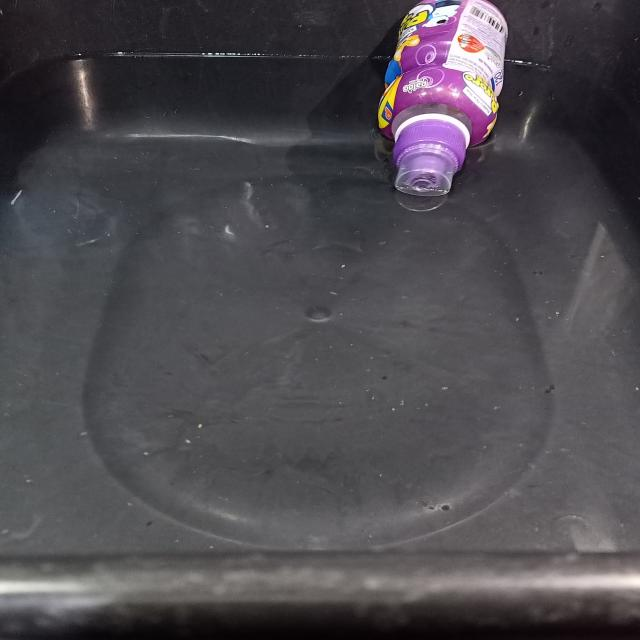Plastic Bottle: (378, 0, 508, 199)
